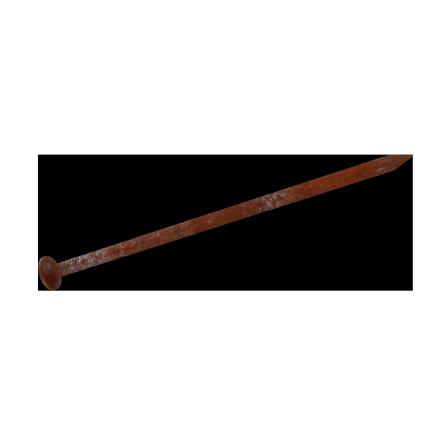karat: (39, 155, 411, 290)
